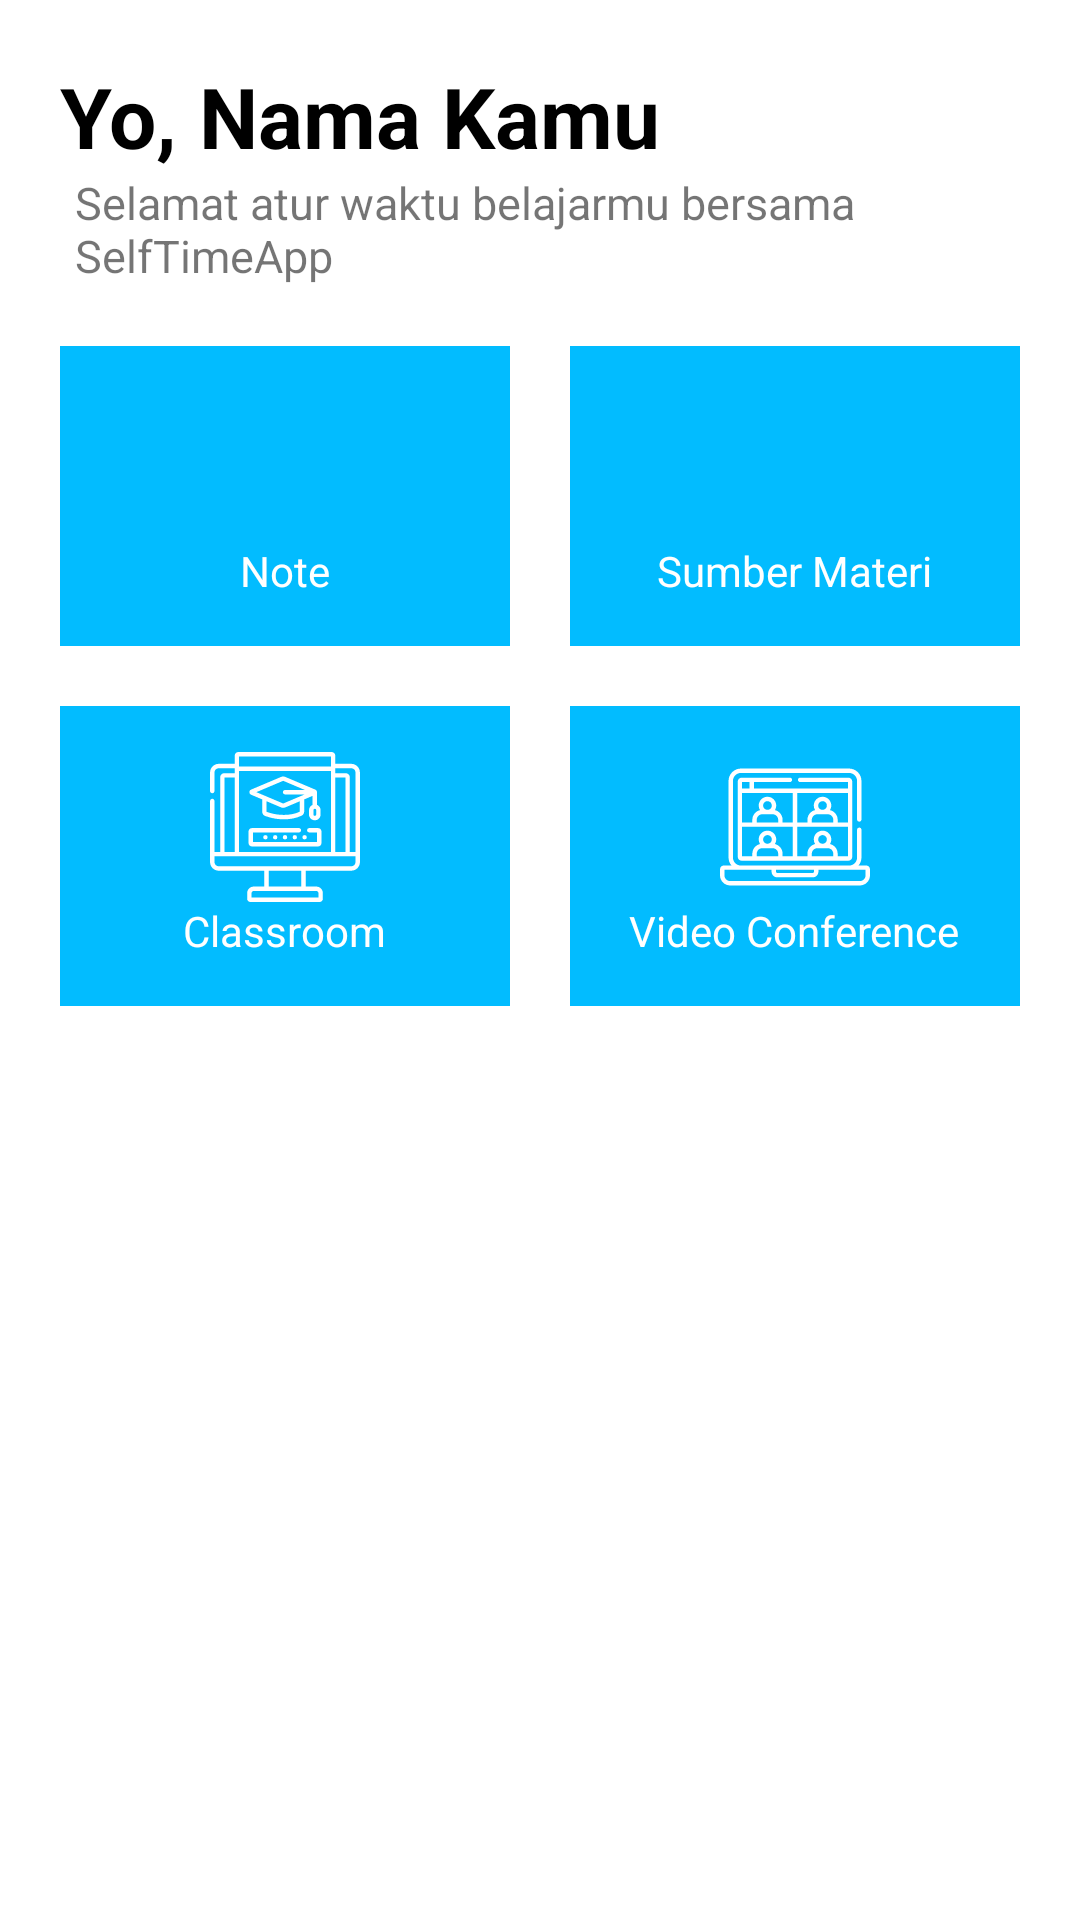

Icons on this 1080*1920 Android screen, each with the point to tap as point (x, y):
graduation: point (285, 827)
